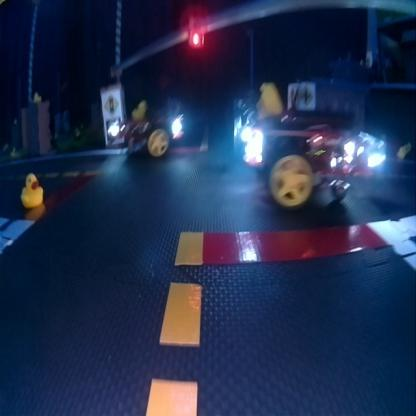Duckie: (256, 81, 282, 118), (21, 172, 42, 207), (131, 102, 147, 120), (32, 92, 41, 102)
Duckiebot: (240, 122, 385, 206), (110, 112, 184, 156)
Intersection sign: (299, 83, 313, 107)
Signal sign: (103, 93, 119, 115)
Traffic light: (188, 15, 204, 45)
